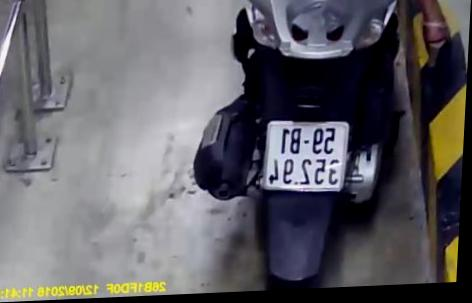License_Plate: (256, 114, 364, 199)
